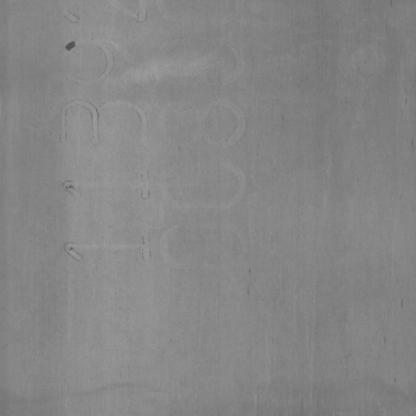oil_spot: (60, 35, 80, 59)
